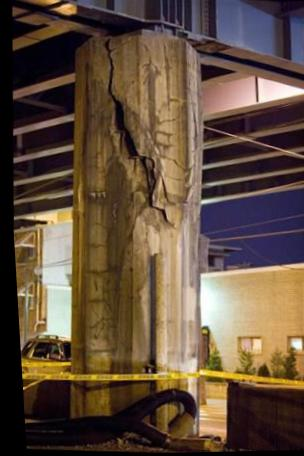crack: (104, 38, 172, 228)
damage: (111, 99, 135, 156)
